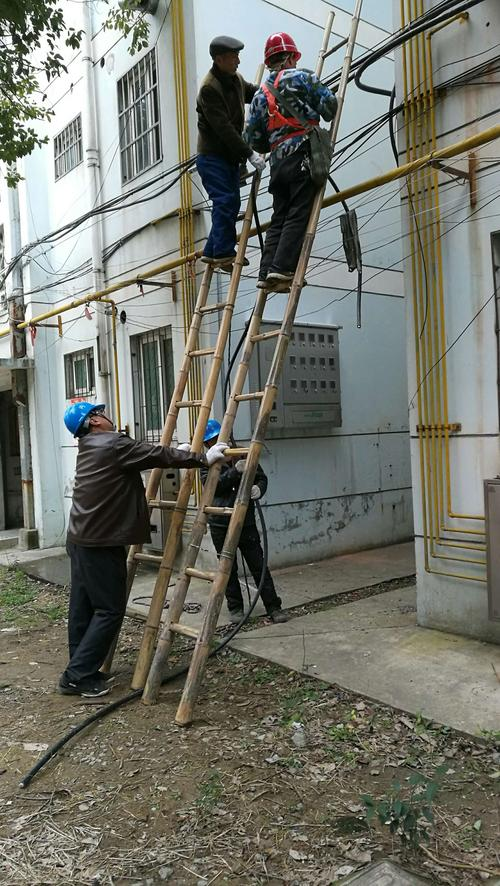安全帽、安全绳，工作服均未佩戴的工作人员: (194, 34, 267, 273)
